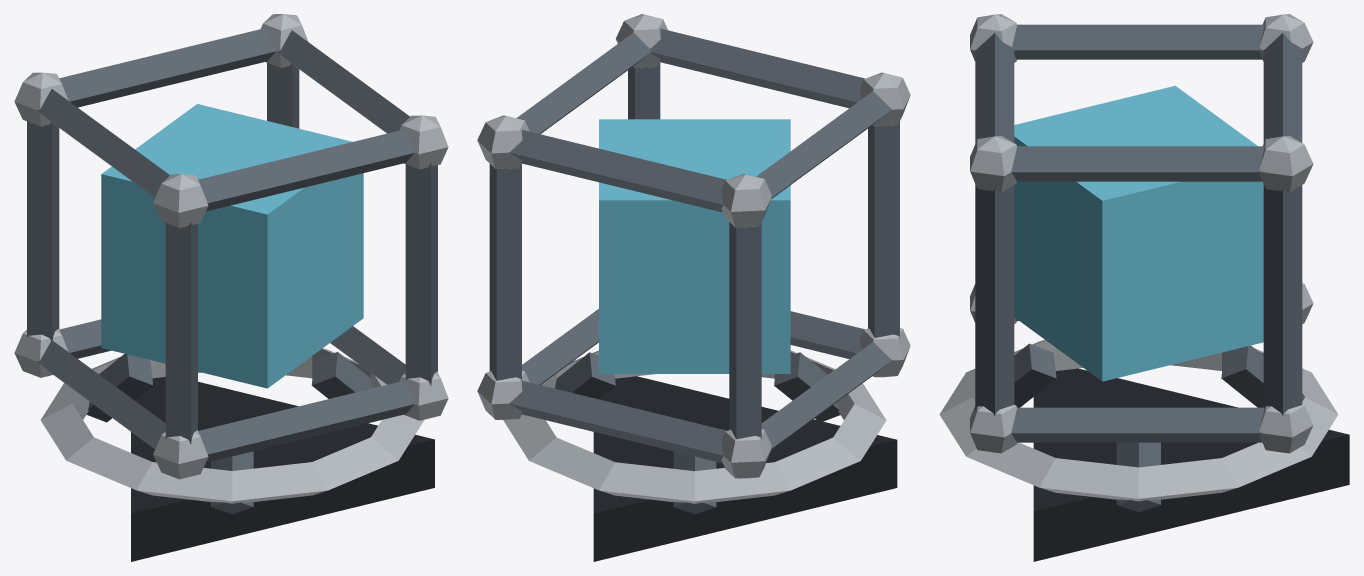
The model's file is holocron-jedi.glb.
3 renders of one model, left to right at view 1: azimuth 30°, elevation 25°; view 2: azimuth 150°, elevation 25°; view 3: azimuth 270°, elevation 25°, orthographic. The views are drawn at different scales.
Visible parts, largest first — view 1: m; view 2: m; view 3: m.
Part boxes in pixels (x1=…): m: x1=14, y1=14, x2=448, y2=561; m: x1=477, y1=14, x2=910, y2=561; m: x1=939, y1=14, x2=1349, y2=561.
Size of the model in its own units: 0.0883 by 0.1 by 0.0908.
